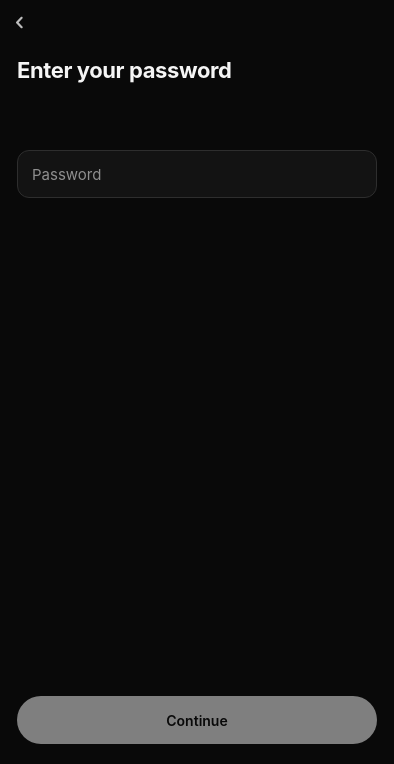
Test: first backup › opens hidden with placeholders only
Type "pw" into the password field labelled "Password". click: (197, 174)
box: [17,150,377,198]
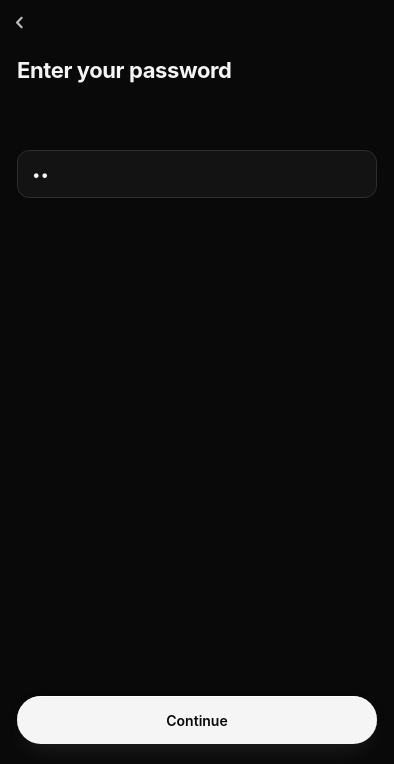
Click the button "Continue". click: (197, 720)
box: [17,696,377,744]
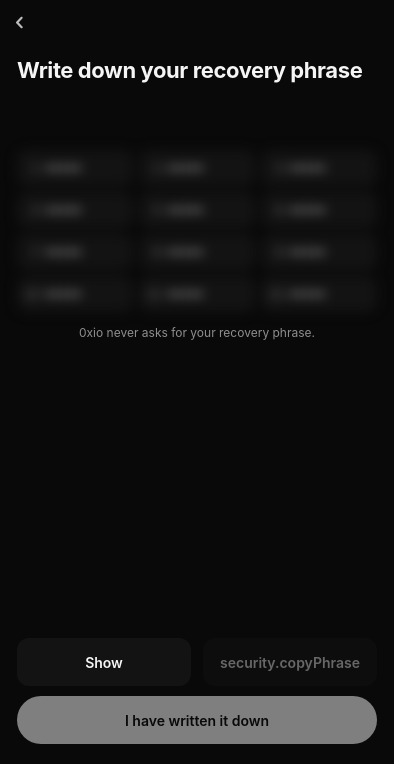
Check: the button "security.copyPhrase" is disabled, box [203,638,377,686]
